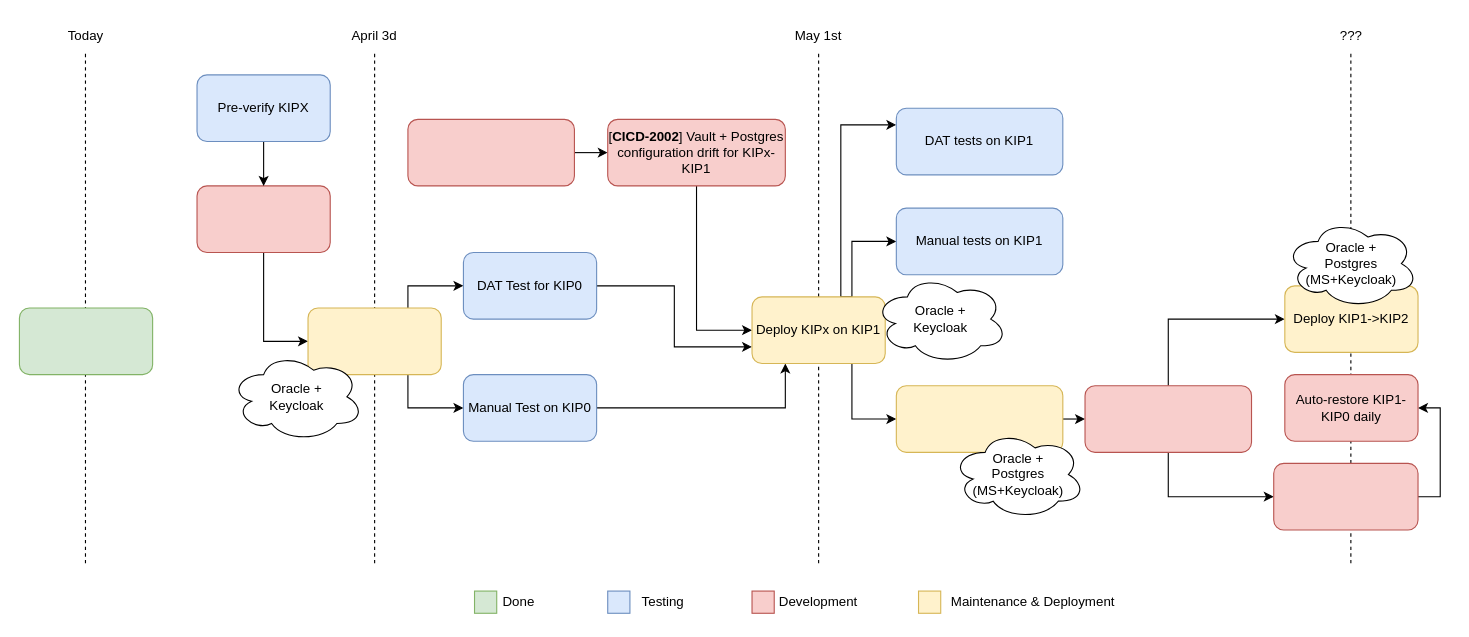
Some shapes in this 1469 by 637 pixel diagram are drawn without their labels. The shapes that lost their labels are listed below. From the top down, each one's box as (x1, y1, x2, y2) in pixels, then its label:
(407, 118, 574, 186): [ CICD-2003 ] Split KIP1-2-3 Oracle\Postgres
(196, 185, 330, 253): [ CICD-2002 ] Vault + Oracle configuration drift between KIPx-KIP0
(18, 307, 153, 375): Auto-restore KIP0 -> KIP0 daily
(307, 307, 441, 375): Deploy KIPX -> KIP0
(895, 385, 1063, 452): Deploy KIP1 (KIPX) -> KIP0
(1084, 385, 1252, 452): [ CICD-2004 ] Detect configuration drift between KIP1-0
(1273, 462, 1418, 530): [ CICD-2005 ] Automate configuration drift fix
